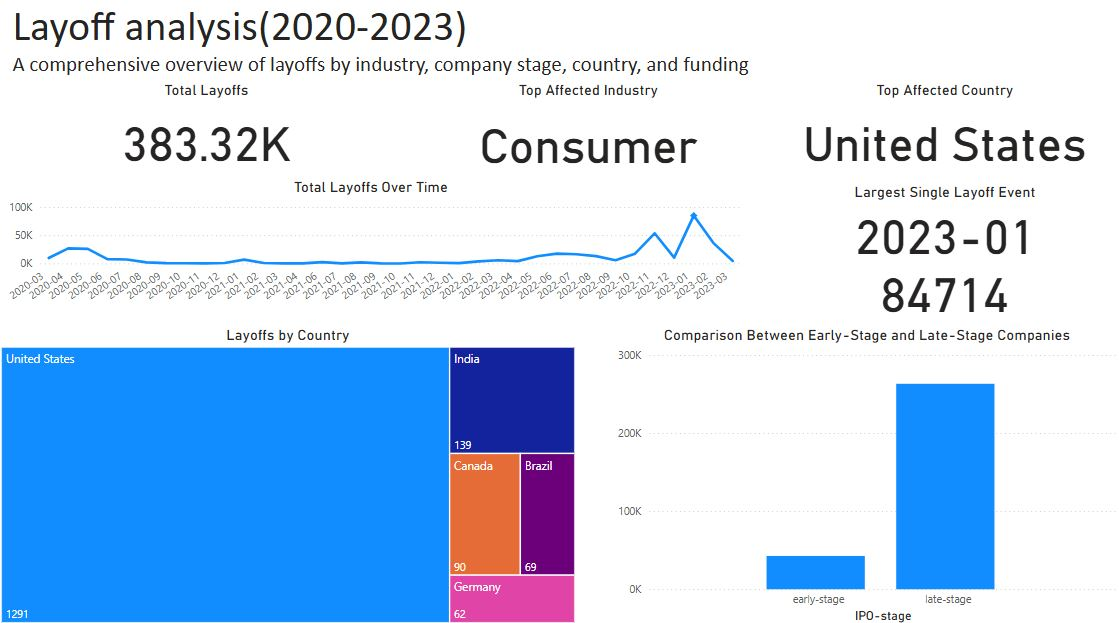

This screenshot's page, from the dashboard's own definition file:
{"tool":"powerbi","page":{"name":"Page 1","canvas":[1280,720],"ordinal":0},"visuals":[{"type":"lineChart","title":"Total Layoffs Over Time","fields":{"Category":["layoffovertime.substring(date,1,7)"],"Y":["Sum(layoffovertime.sum(total_laid_off))"]},"box":[0,208.5,852.2,151.5],"z":0},{"type":"textbox","box":[12.5,0,912.5,98],"z":1000},{"type":"treemap","title":"Layoffs by Country","fields":{"Group":["layoffs by country.country"],"Values":["Sum(layoffs by country.total_num)"]},"box":[0,377.1,663,342.9],"z":2000},{"type":"card","title":"Total Layoffs","fields":{"Values":["Sum(Layoffs by Industry.sum(total_laid_off))"]},"box":[95.7,98,285.9,110.5],"z":3000},{"type":"card","title":"Top Affected Industry","fields":{"Values":["Min(Layoffs by Industry.industry)"]},"box":[495.6,98,356.6,116.2],"z":4000},{"type":"card","title":"Top Affected Country","fields":{"Values":["Min(layoffs by country.country)"]},"box":[879.5,98,401,110.5],"z":5000},{"type":"columnChart","title":"Comparison Between Early-Stage and Late-Stage Companies","fields":{"Category":["Running Total of Layoffs Per Industry.stageipo"],"Y":["Sum(Running Total of Layoffs Per Industry.SUM(total_laid_off))"]},"box":[701.8,377.1,578.7,342.9],"z":6000},{"type":"card","title":"Largest Single Layoff Event","fields":{"Values":["Min(layoffovertime.substring(date,1,7))"]},"box":[879.5,214.2,401,90],"z":7000},{"type":"card","fields":{"Values":["Sum(layoffovertime.sum(total_laid_off))"]},"box":[925.1,296.2,308.7,78.6],"z":8000}]}

Visuals, with their boxes in screenshot pixels (x1, y1, x2, y2), scaled from the page's 1280x720 canvas onto the 1119x623 screenshot:
"Total Layoffs Over Time" lineChart: locate(0, 180, 745, 312)
textbox: locate(11, 0, 809, 85)
"Layoffs by Country" treemap: locate(0, 326, 580, 622)
"Total Layoffs" card: locate(84, 85, 334, 180)
"Top Affected Industry" card: locate(433, 85, 745, 185)
"Top Affected Country" card: locate(769, 85, 1118, 180)
"Comparison Between Early-Stage and Late-Stage Companies" columnChart: locate(614, 326, 1118, 622)
"Largest Single Layoff Event" card: locate(769, 185, 1118, 263)
card - Sum(layoffovertime.sum(total_laid_off)): locate(809, 256, 1079, 324)
